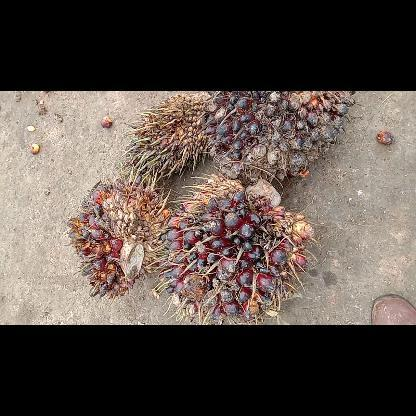Kurang masak: (164, 176, 310, 324), (208, 90, 356, 182)
TBS abnormal: (125, 91, 209, 191)
TBS masak: (68, 179, 166, 299)
